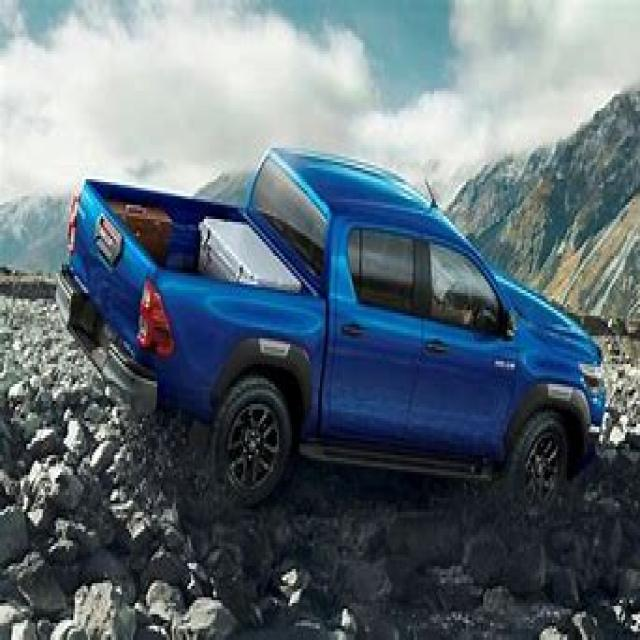light_vehicle: (52, 137, 610, 538)
